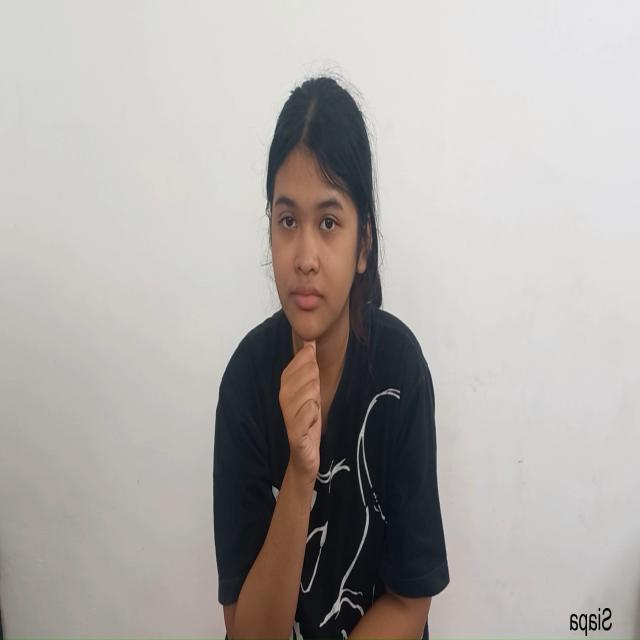Siapa -BISINDO-: (263, 70, 377, 483)
